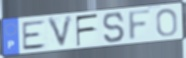E: (21, 19, 48, 52)
F: (127, 8, 154, 43), (75, 12, 100, 47)
O: (155, 8, 179, 38)
S: (101, 11, 126, 44)
V: (46, 14, 75, 51)
